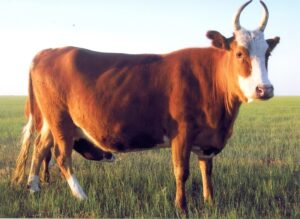cow: (22, 1, 276, 214)
